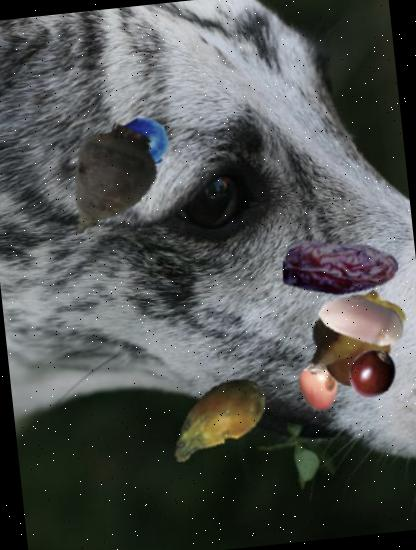Beetroot: (40, 116, 178, 254)
Cactus: (152, 358, 275, 482)
Carambula: (298, 278, 416, 396)
Dates: (276, 206, 404, 332)
Hazelnut: (311, 270, 411, 370)
Huckleberry: (103, 112, 173, 181)
Kaki: (288, 356, 346, 414)
Tamarillo: (344, 345, 402, 403)
